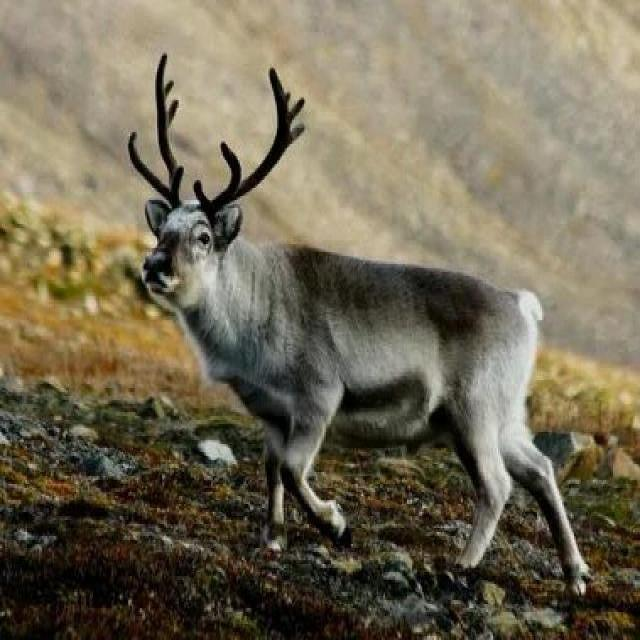deer: (93, 98, 623, 611)
